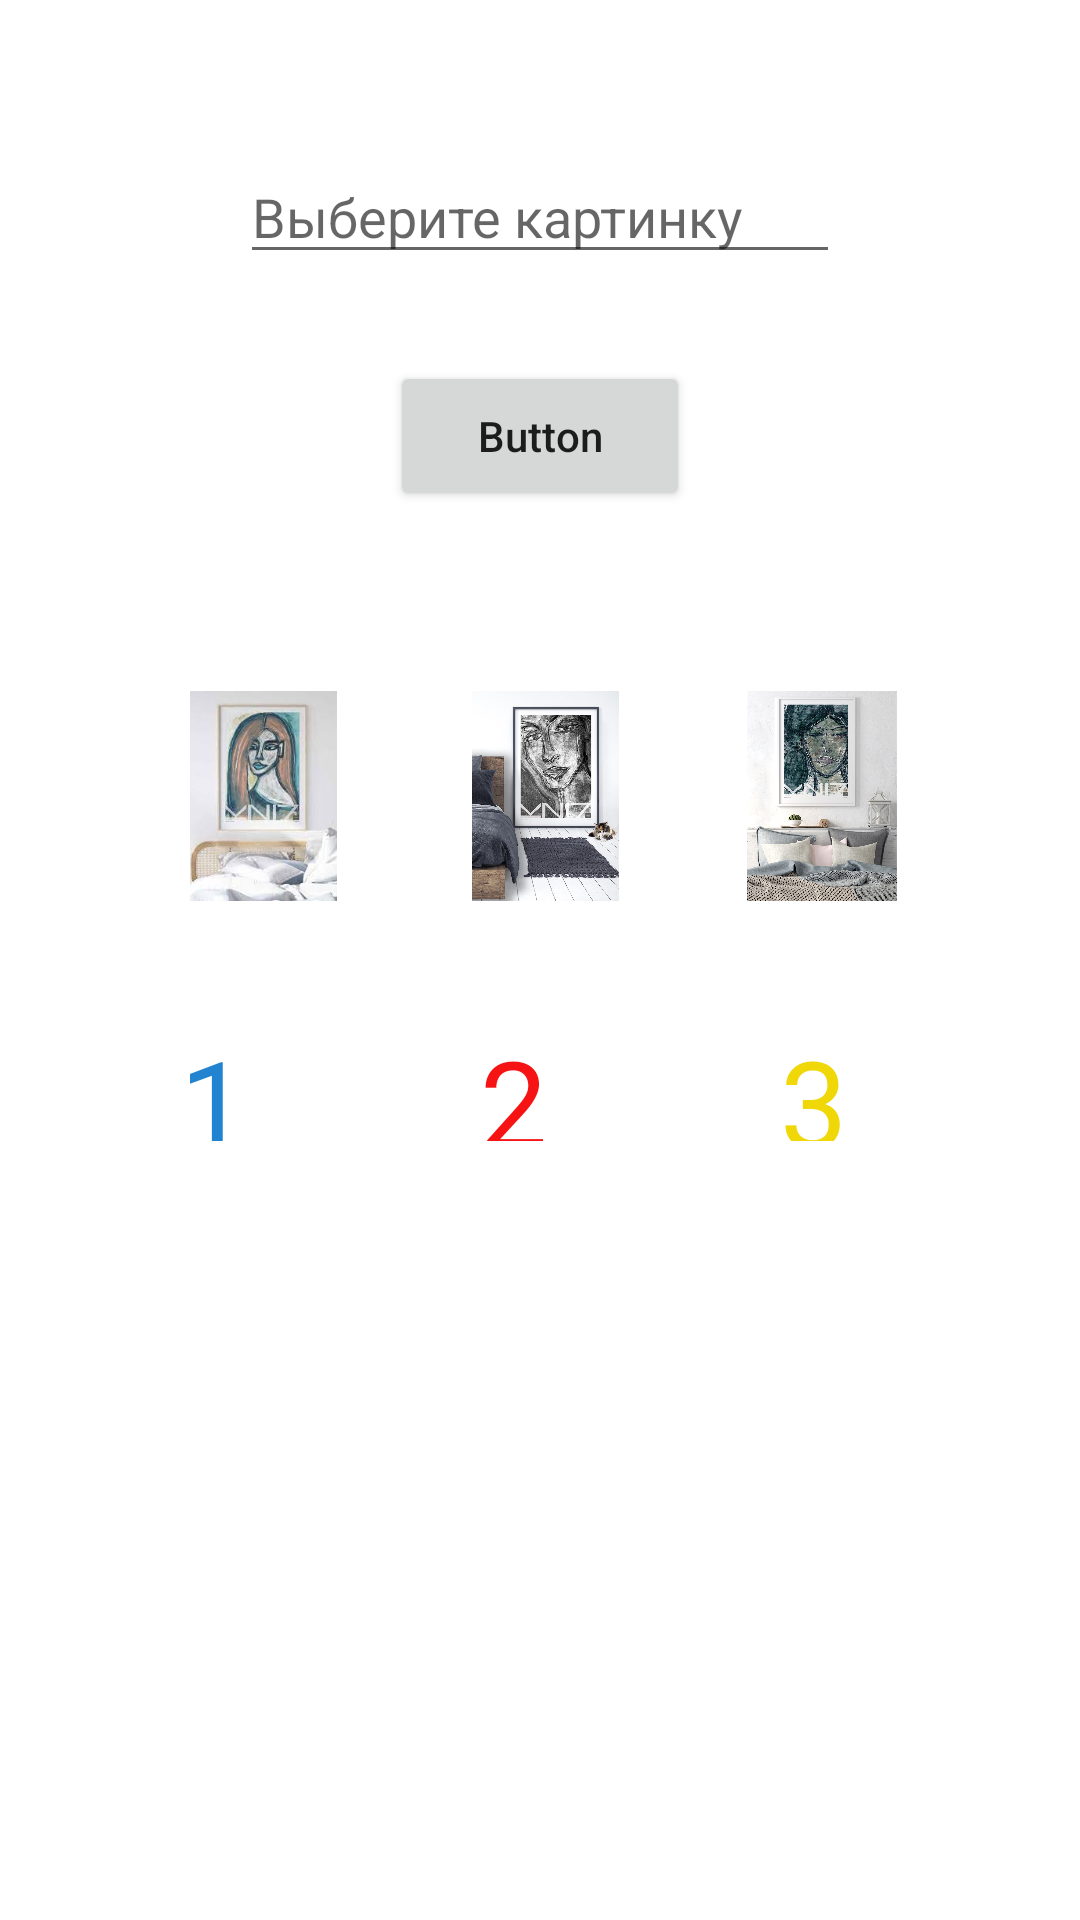

Locate icon controls on the screen. Image size 1080*1920, boxes as bbox(x1, y1, x2, y2).
images: bbox(190, 691, 337, 901), bbox(472, 691, 619, 901), bbox(747, 691, 897, 901)
